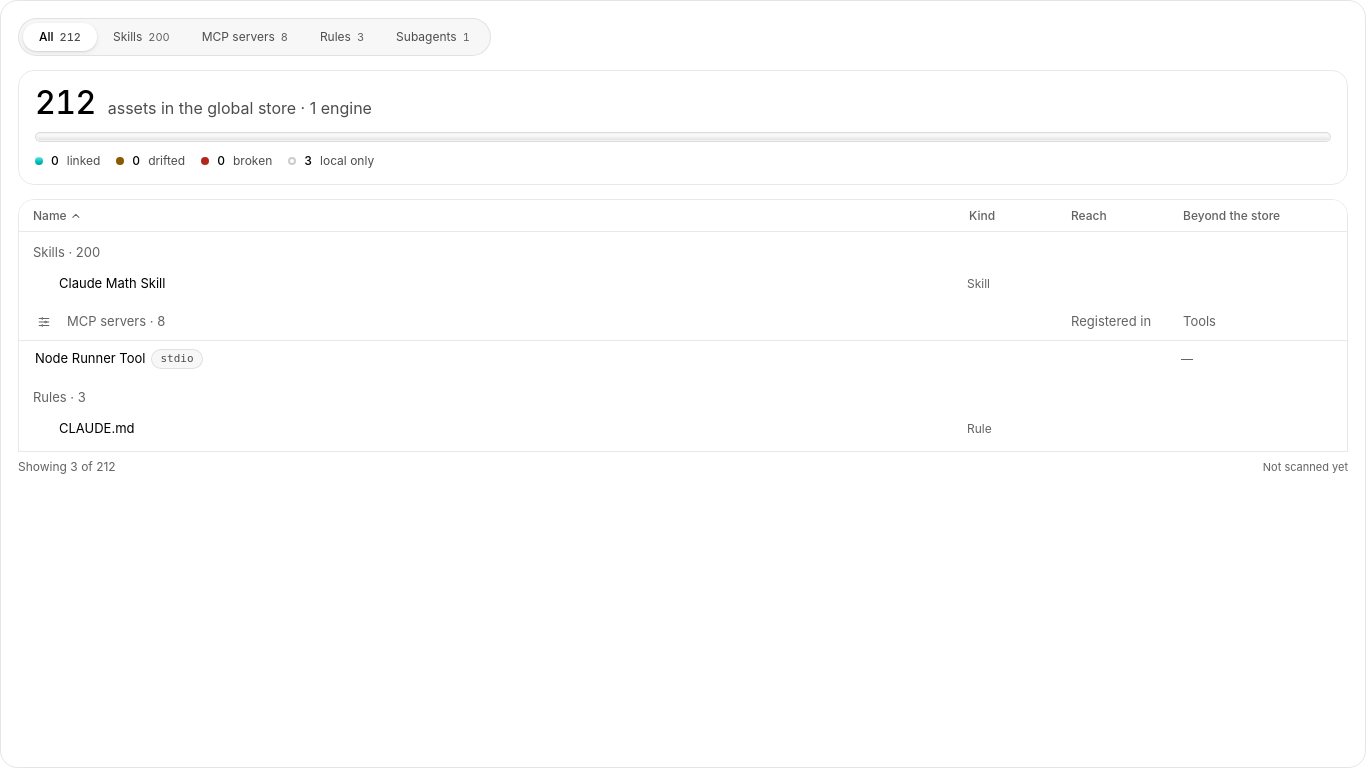
ProfilePane Component-Level Filtering Integration › the strip follows the selected category: the skill count, the skill noun, the skill split
The width and height of the screenshot is (1366, 768).
Click the tab "Skills 200". click: click(141, 37)
box: [97, 23, 186, 51]
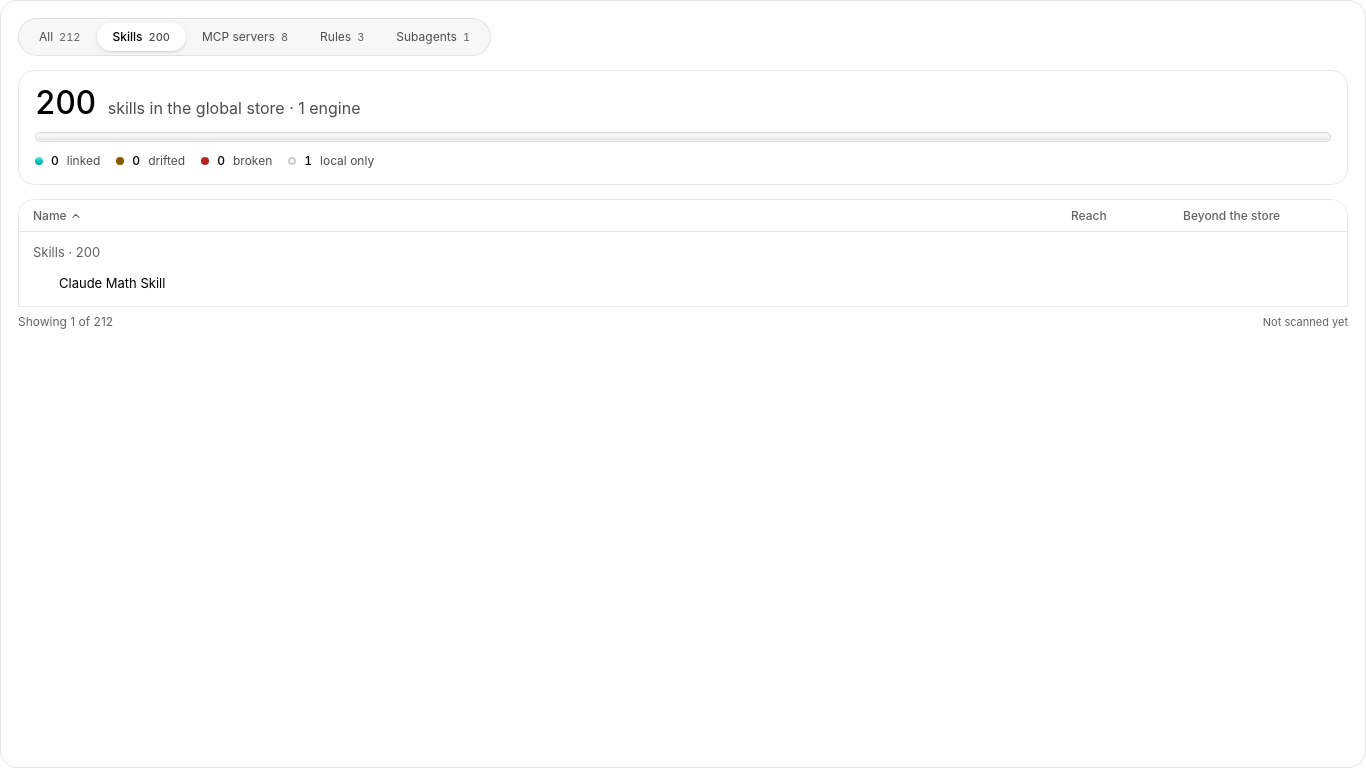
Expected: the picture named "0 linked, 0 drifted, 0 broken, 1 local only" is shown, [35, 132, 1331, 142]
Expected: the text "200" next to "skills in the global store · 1 engine" is shown, [35, 83, 96, 122]
Expected: the text "skills in the global store · 1 engine" is shown, [108, 96, 360, 120]
